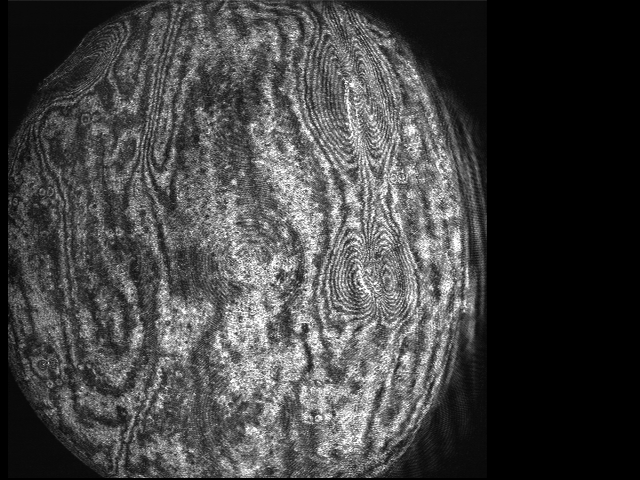plume: (328, 231, 414, 330)
